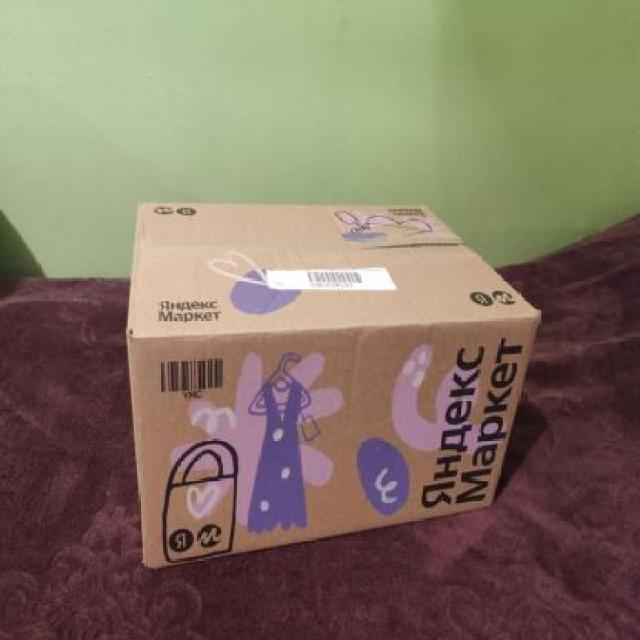box: (121, 197, 539, 555)
